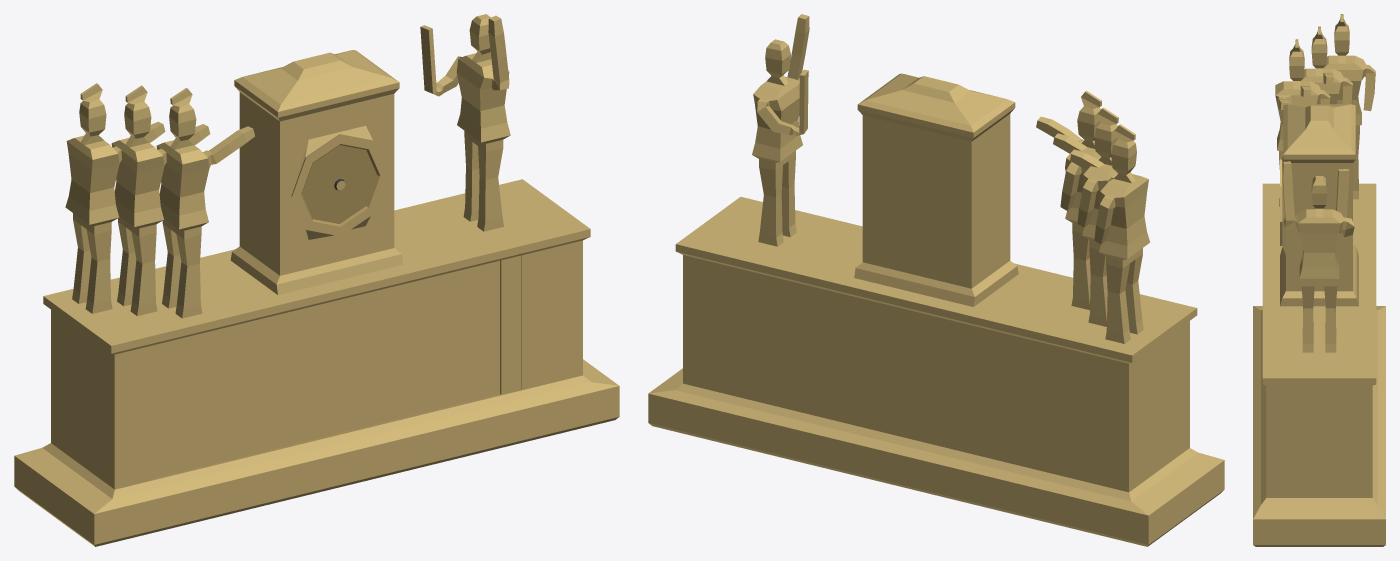
The model's file is relojhoracios.fbx.
3 renders of one model, left to right at view 1: azimuth 30°, elevation 25°; view 2: azimuth 150°, elevation 25°; view 3: azimuth 270°, elevation 25°, orthographic. The views are drawn at different scales.
Visible parts, largest first — view 1: reloj_horacios; view 2: reloj_horacios; view 3: reloj_horacios.
Boxes of the visible parts, x1,y1,x2,y2 form: reloj_horacios: (14, 14, 619, 546); reloj_horacios: (648, 14, 1224, 546); reloj_horacios: (1253, 14, 1385, 546).
Size of the model in its own units: 57 by 42.79 by 15.
